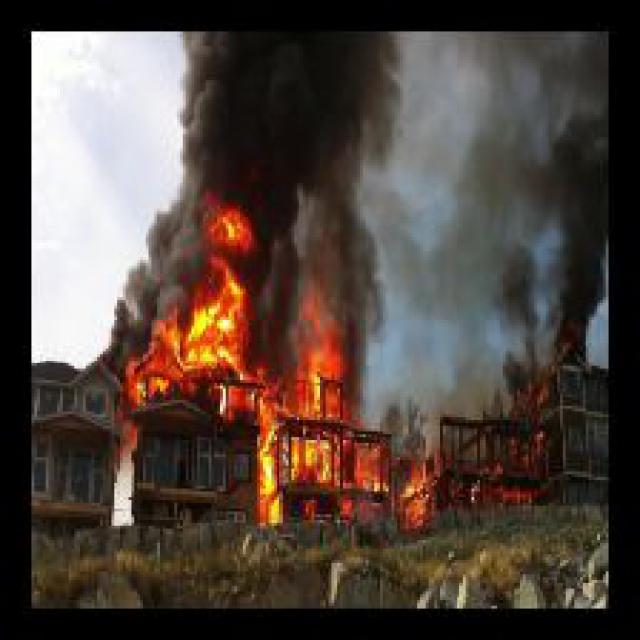fire: (114, 154, 443, 529)
